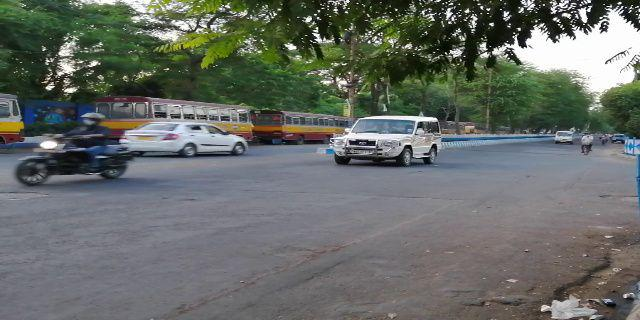Bus: (93, 90, 254, 141), (253, 107, 336, 147), (1, 93, 23, 150)
Car: (326, 107, 445, 169), (121, 118, 247, 159)
Motorbike: (14, 111, 126, 184)
